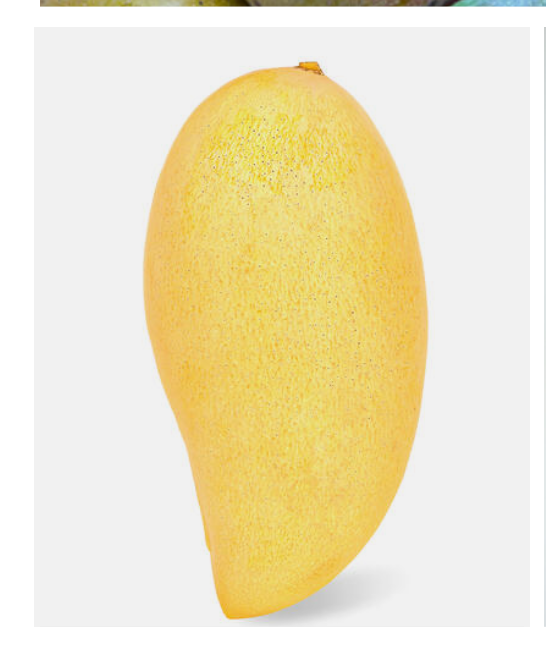mango: (146, 63, 428, 616)
